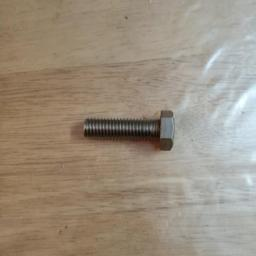screwtype2silver: (79, 109, 176, 153)
